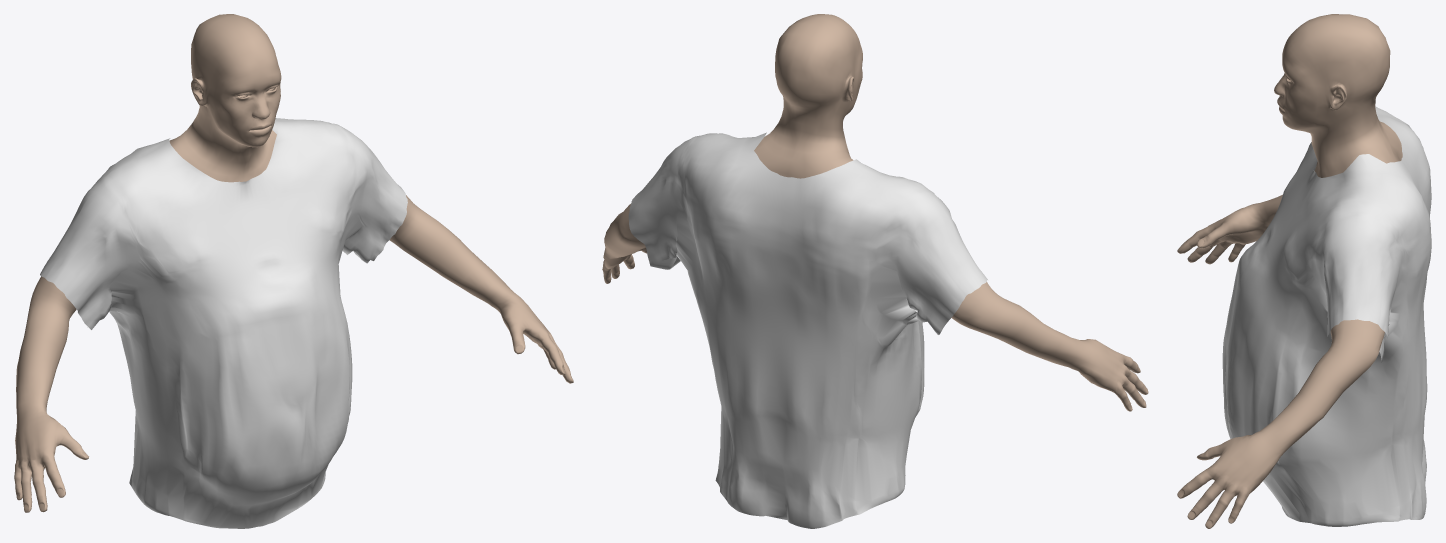
3 renders of one model, left to right at view 1: azimuth 30°, elevation 25°; view 2: azimuth 150°, elevation 25°; view 3: azimuth 270°, elevation 25°, orthographic. The views are drawn at different scales.
Parts seen in each view (by area): view 1: Cube, Base; view 2: Cube, Base; view 3: Cube, Base.
Boxes of the visible parts, bbox=[...] form: Cube: bbox=[40, 118, 407, 528]; Base: bbox=[14, 14, 573, 512]; Cube: bbox=[628, 132, 987, 528]; Base: bbox=[602, 14, 1148, 411]; Cube: bbox=[1222, 106, 1431, 526]; Base: bbox=[1177, 14, 1402, 528].
Size of the model in its own units: 10.48 by 8.88 by 4.23.
